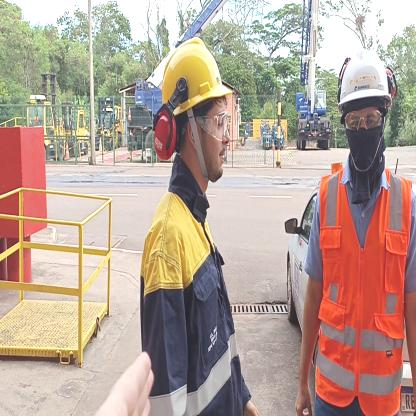Balaclava: (338, 104, 388, 194)
C_eletrica: (143, 183, 258, 416)
Capacete: (161, 32, 231, 106), (336, 50, 398, 102)
colete: (323, 179, 404, 413)
